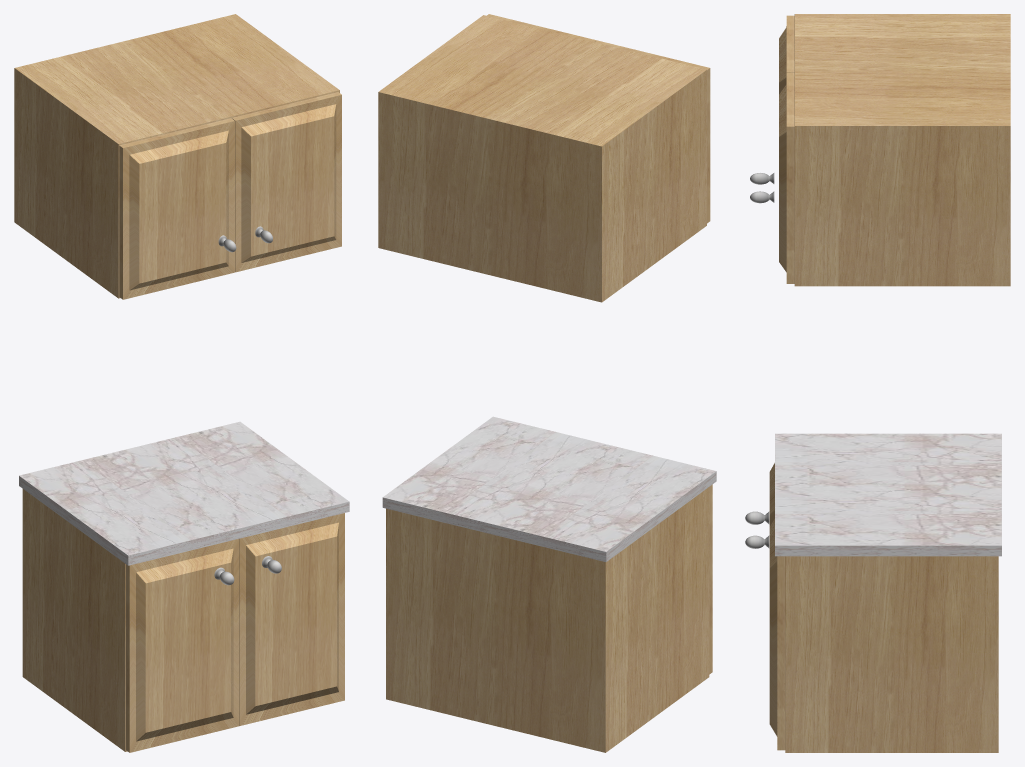
The model's file is kitchenCabinet_small.FBX.
3 renders of one model, left to right at view 1: azimuth 30°, elevation 25°; view 2: azimuth 150°, elevation 25°; view 3: azimuth 270°, elevation 25°, orthographic. The views are drawn at different scales.
Parts seen in each view (by area): view 1: Body, Top, Handles; view 2: Body, Top; view 3: Body, Top, Handles.
Boxes of the visible parts, x1,y1,x2,y2 form: Body: (14, 14, 344, 752); Top: (19, 421, 349, 565); Handles: (214, 226, 281, 585); Body: (378, 14, 712, 752); Top: (382, 416, 716, 561); Body: (769, 14, 1010, 752); Top: (775, 433, 1001, 556); Handles: (745, 173, 774, 548).
Bounding box in the file's own units: 27.01 × 70.52 × 27.03.
Materials: 3 (3 with a texture image).
